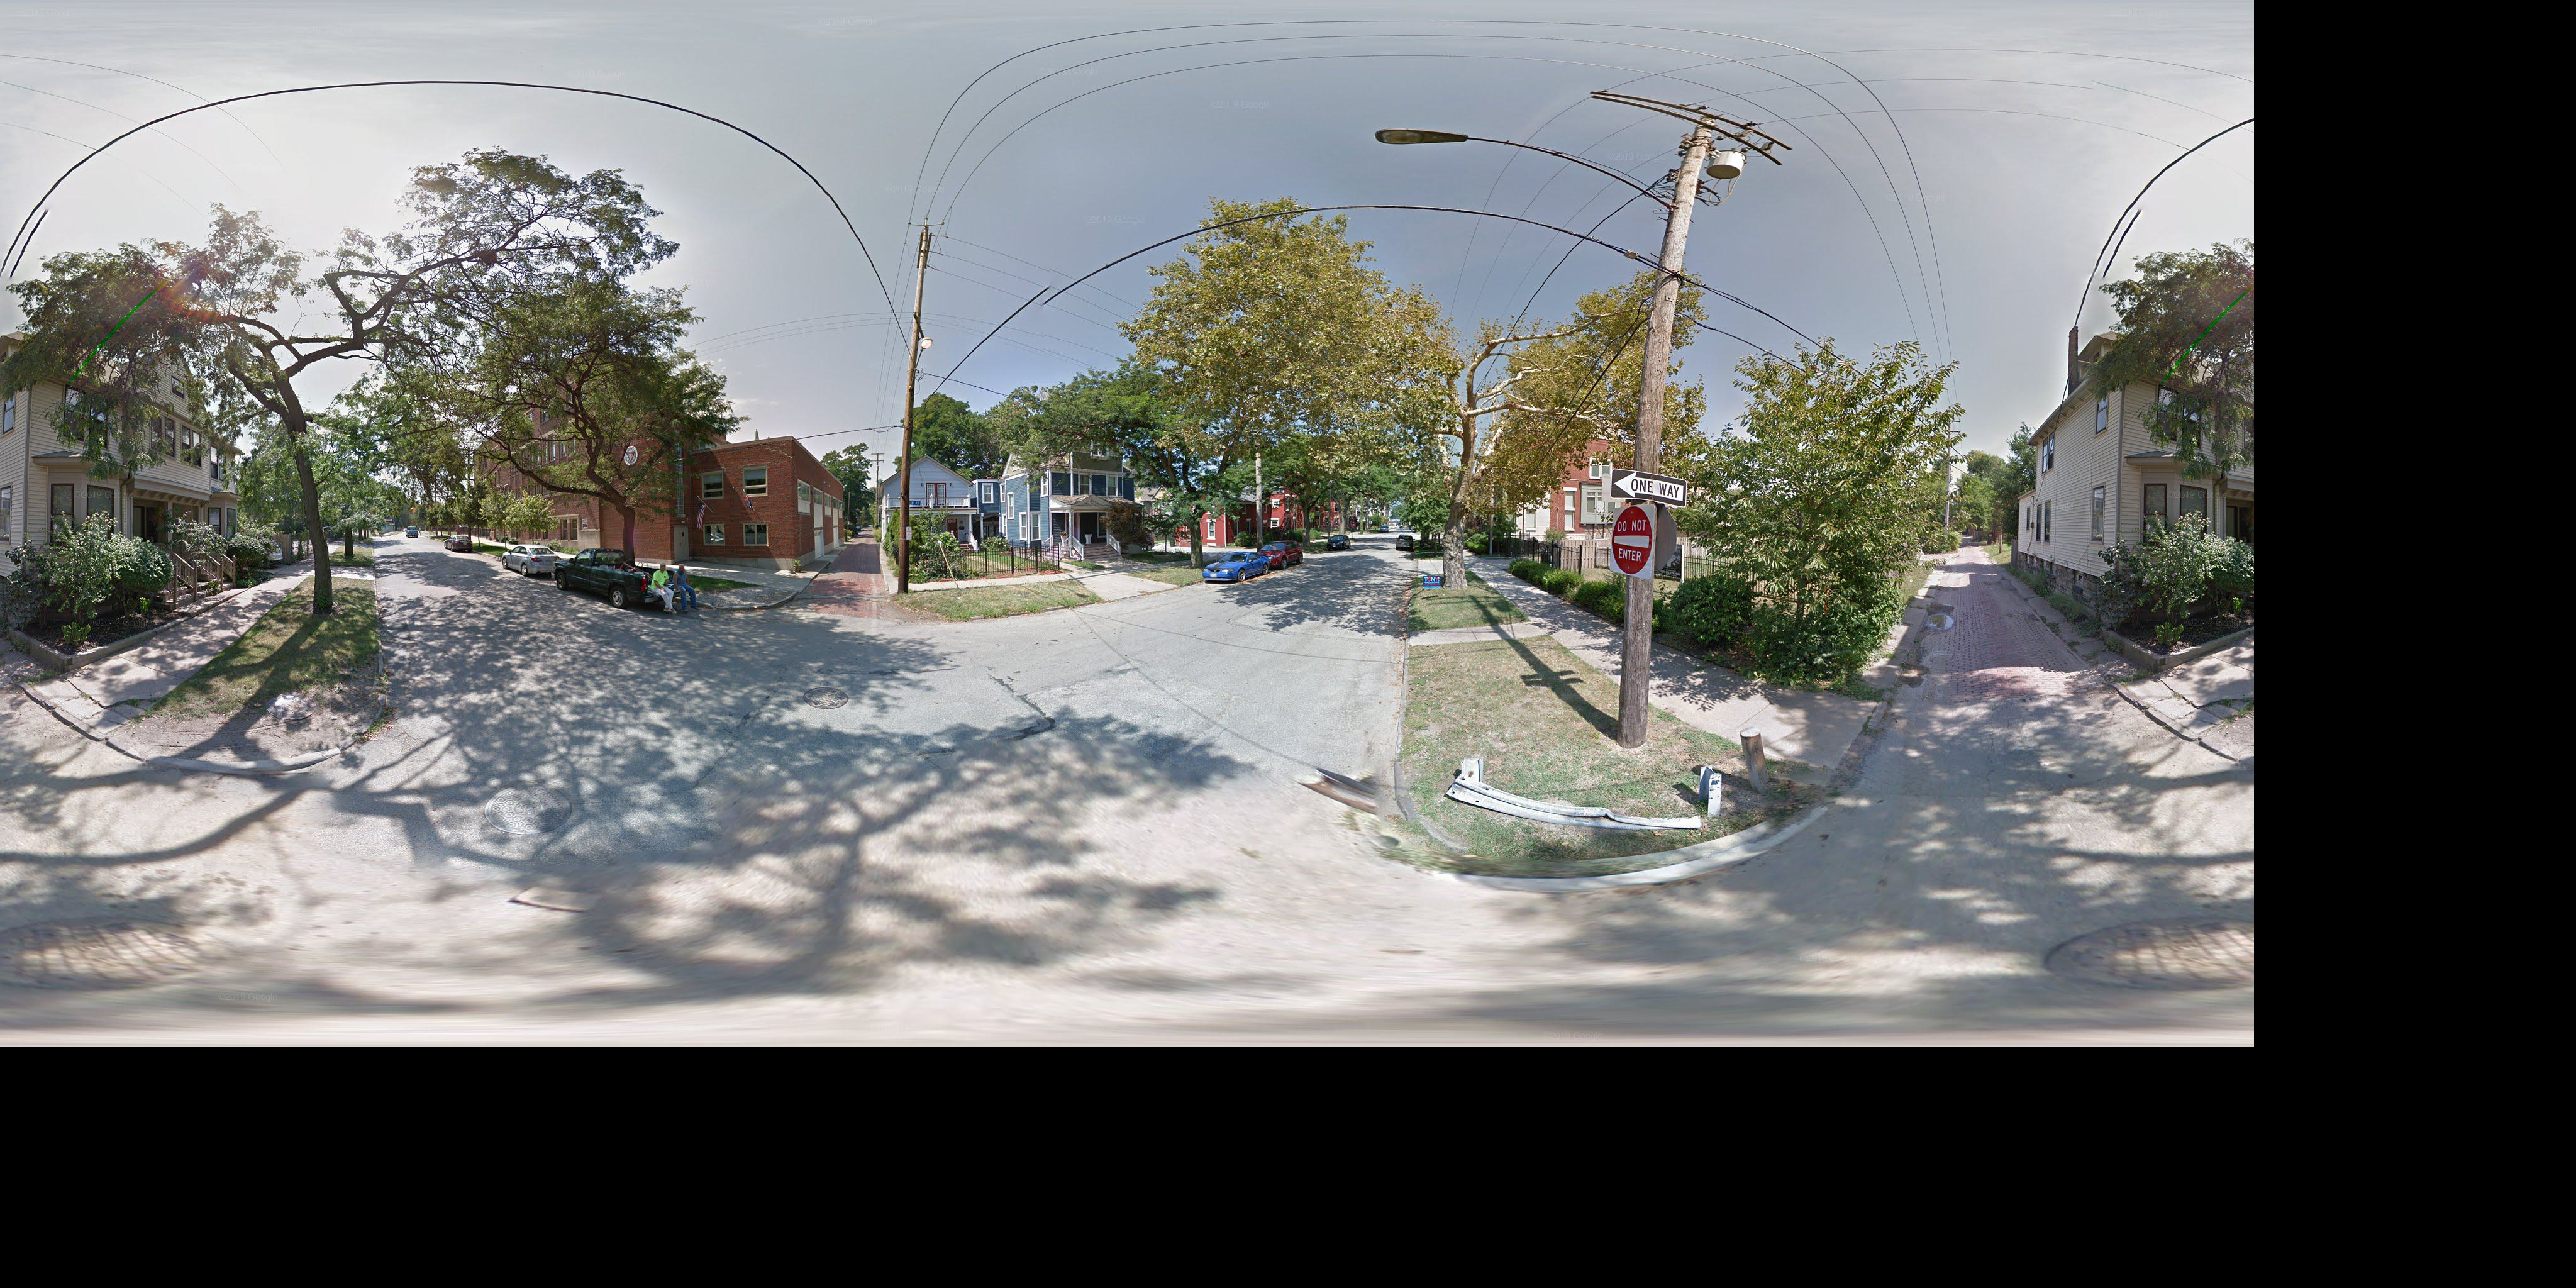Curb Ramp: (784, 563, 815, 603)
Irregular Ramp: (1781, 665, 1909, 800), (10, 646, 148, 761), (2101, 644, 2229, 743)
Missing Curb Ramp: (872, 572, 899, 600)
